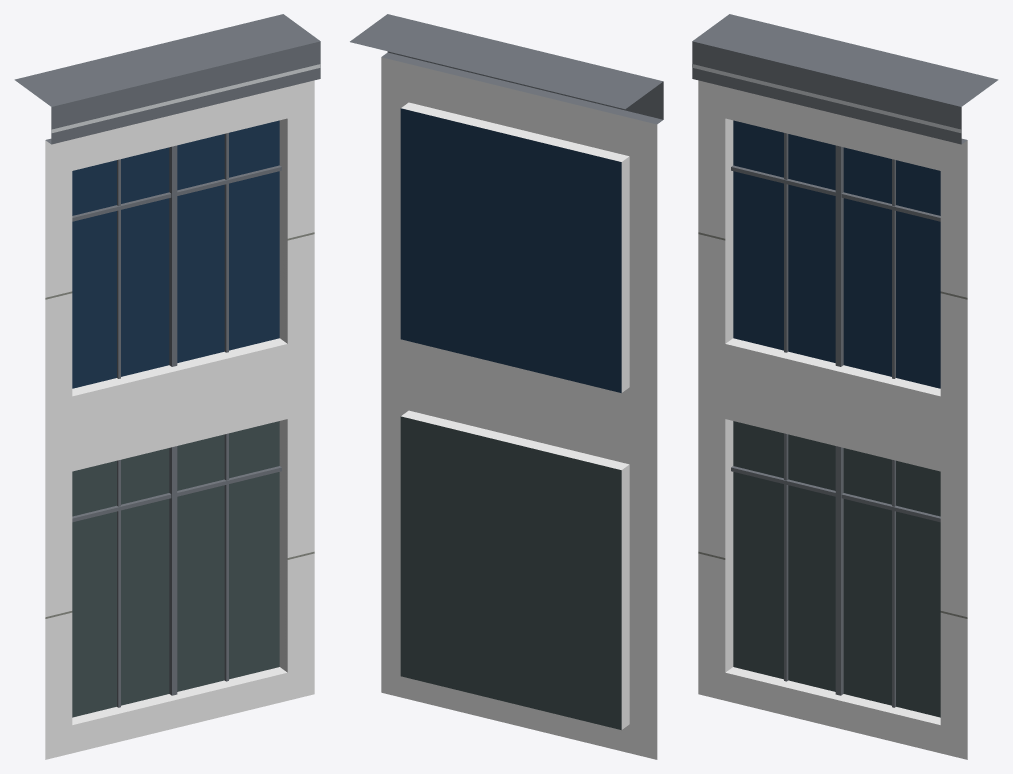
Rendered from base-w1_close.fbx.
3 views of the same model, side by side, from view 1: azimuth 30°, elevation 25°; view 2: azimuth 150°, elevation 25°; view 3: azimuth 330°, elevation 25° (orthographic). The views are drawn at different scales.
Visible parts, largest first — view 1: a2012/200/base-w1_close; view 2: a2012/200/base-w1_close; view 3: a2012/200/base-w1_close.
Part boxes in pixels (left/top/right/bottom): a2012/200/base-w1_close: left=14, top=14, right=320, bottom=759; a2012/200/base-w1_close: left=350, top=14, right=663, bottom=759; a2012/200/base-w1_close: left=692, top=14, right=998, bottom=759.
Size of the model in its own units: 3 by 7 by 0.722.
